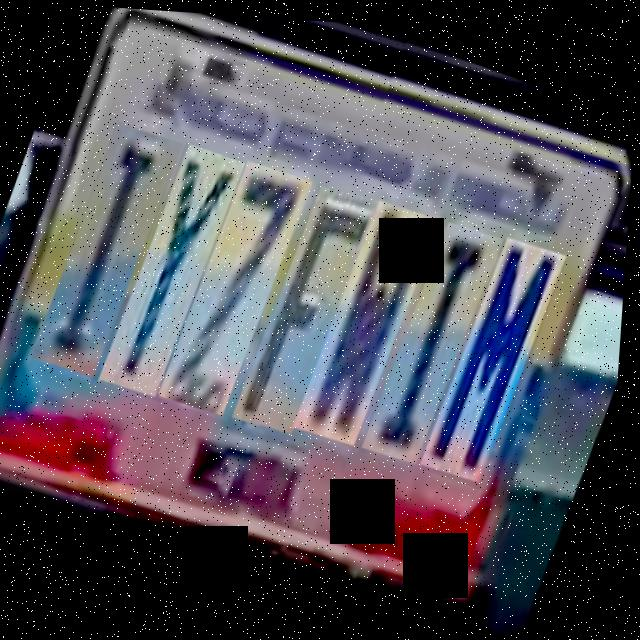F: (237, 175, 383, 441)
I: (36, 115, 186, 383), (367, 212, 505, 469)
M: (425, 228, 569, 487)
W: (297, 191, 443, 453)
Y: (104, 135, 248, 404)
Z: (163, 151, 316, 422)
